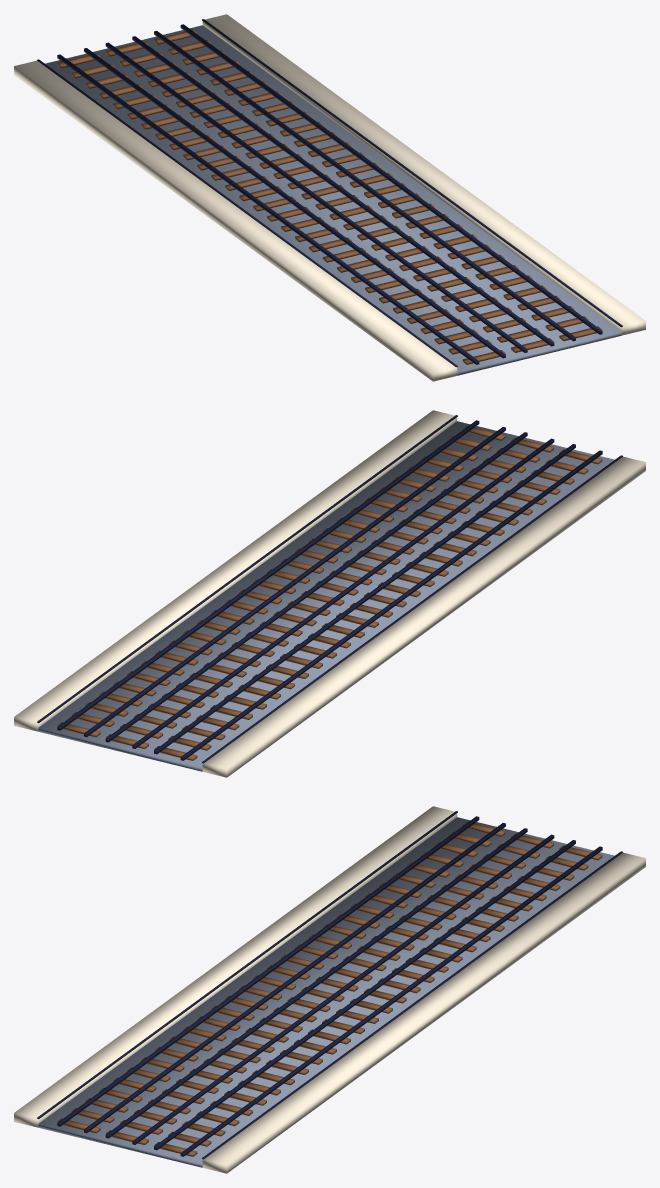
File: track_segment.glb
3 renders of one model, top to bottom at view 1: azimuth 30°, elevation 25°; view 2: azimuth 150°, elevation 25°; view 3: azimuth 330°, elevation 25°, orthographic.
Parts seen in each view (by area): view 1: TrackSegment; view 2: TrackSegment; view 3: TrackSegment.
Part boxes in pixels (bbox=[...]): TrackSegment: bbox=[14, 14, 645, 381]; TrackSegment: bbox=[14, 410, 645, 777]; TrackSegment: bbox=[14, 806, 645, 1173].
Size of the model in its own units: 8.8 by 0.38 by 30.
